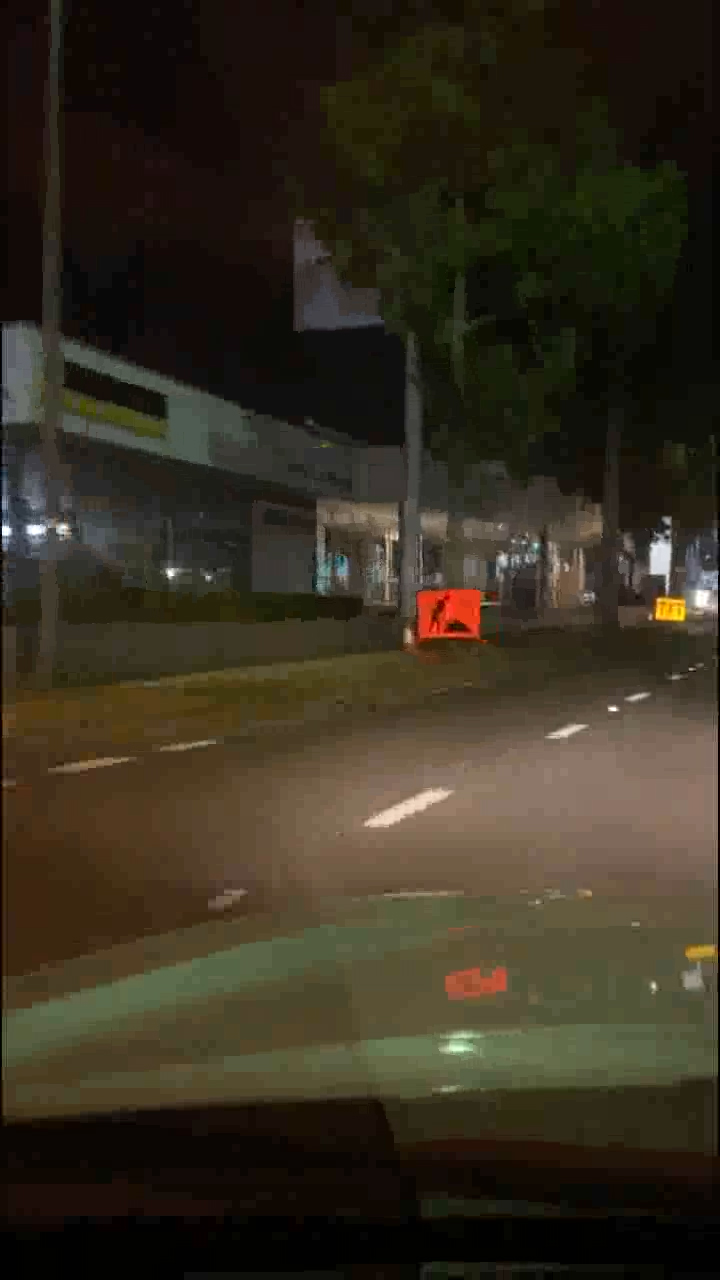road works sign board: (420, 588, 479, 642), (656, 602, 681, 623)
